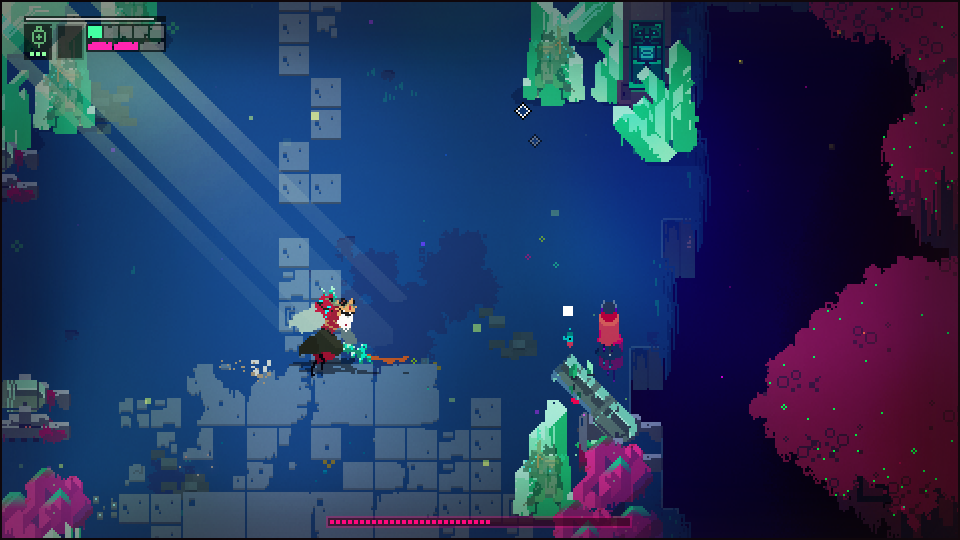hanged_man: (283, 286, 385, 377)
player: (594, 298, 625, 353)
